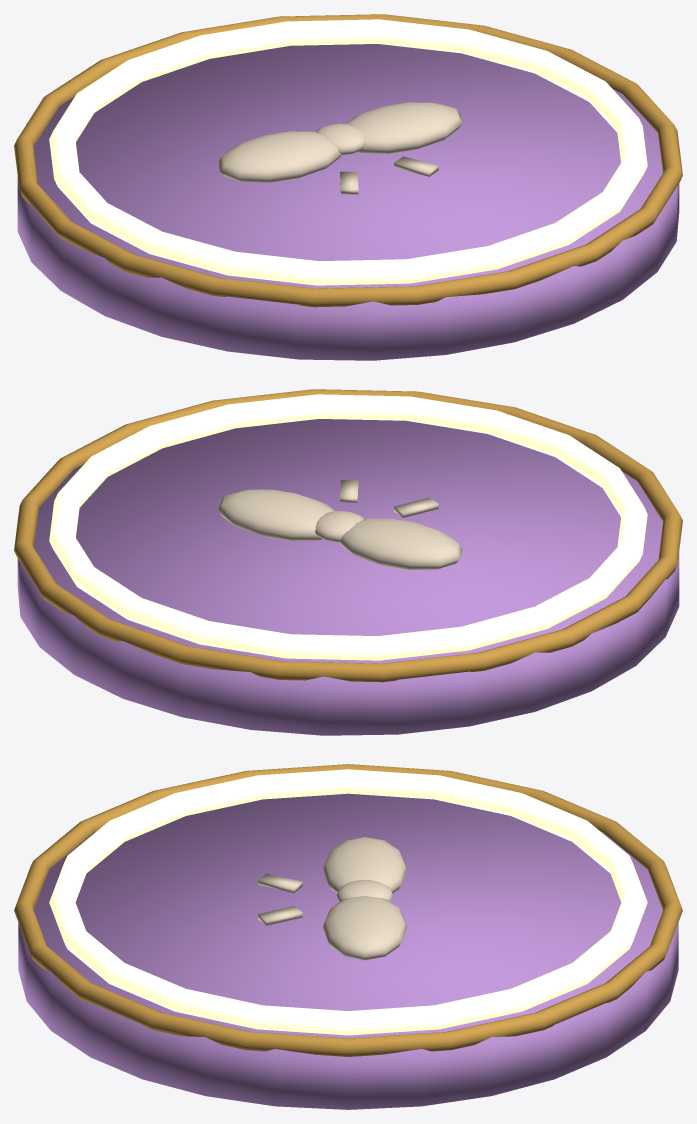
Rendered from opera_ballerina_tile_2.glb.
3 views of the same model, one above another, from view 1: azimuth 30°, elevation 25°; view 2: azimuth 150°, elevation 25°; view 3: azimuth 270°, elevation 25° (orthographic).
Parts seen in each view (by area): view 1: VisualMesh.002, GlowRing.002; view 2: VisualMesh.002, GlowRing.002; view 3: VisualMesh.002, GlowRing.002.
Boxes of the visible parts, left/top/right/bottom form: VisualMesh.002: left=14, top=14, right=682, bottom=360; GlowRing.002: left=49, top=19, right=647, bottom=285; VisualMesh.002: left=14, top=389, right=682, bottom=735; GlowRing.002: left=49, top=394, right=647, bottom=660; VisualMesh.002: left=14, top=764, right=682, bottom=1109; GlowRing.002: left=49, top=769, right=647, bottom=1035.
Bounding box in the file's own units: 6.08 × 0.874 × 6.08.
